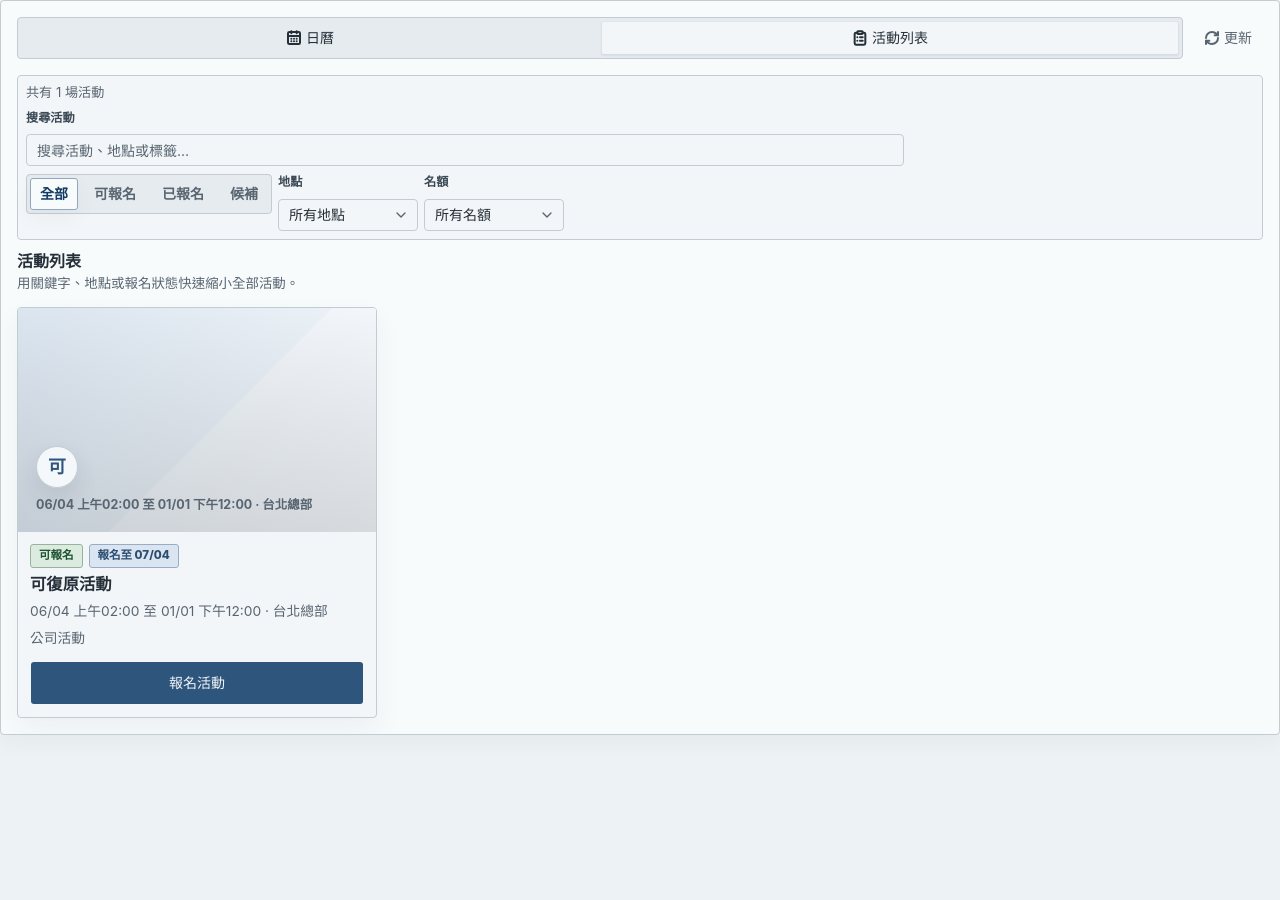
Test: EmployeeEventsPage discovery controls › shows a recoverable no-result state for discovery filters
Expected: the heading "可復原活動" is shown, [30,574,112,594]
Type "不存在" into the search field labelled "搜尋活動" at (465, 150), box [26,134,904,166]
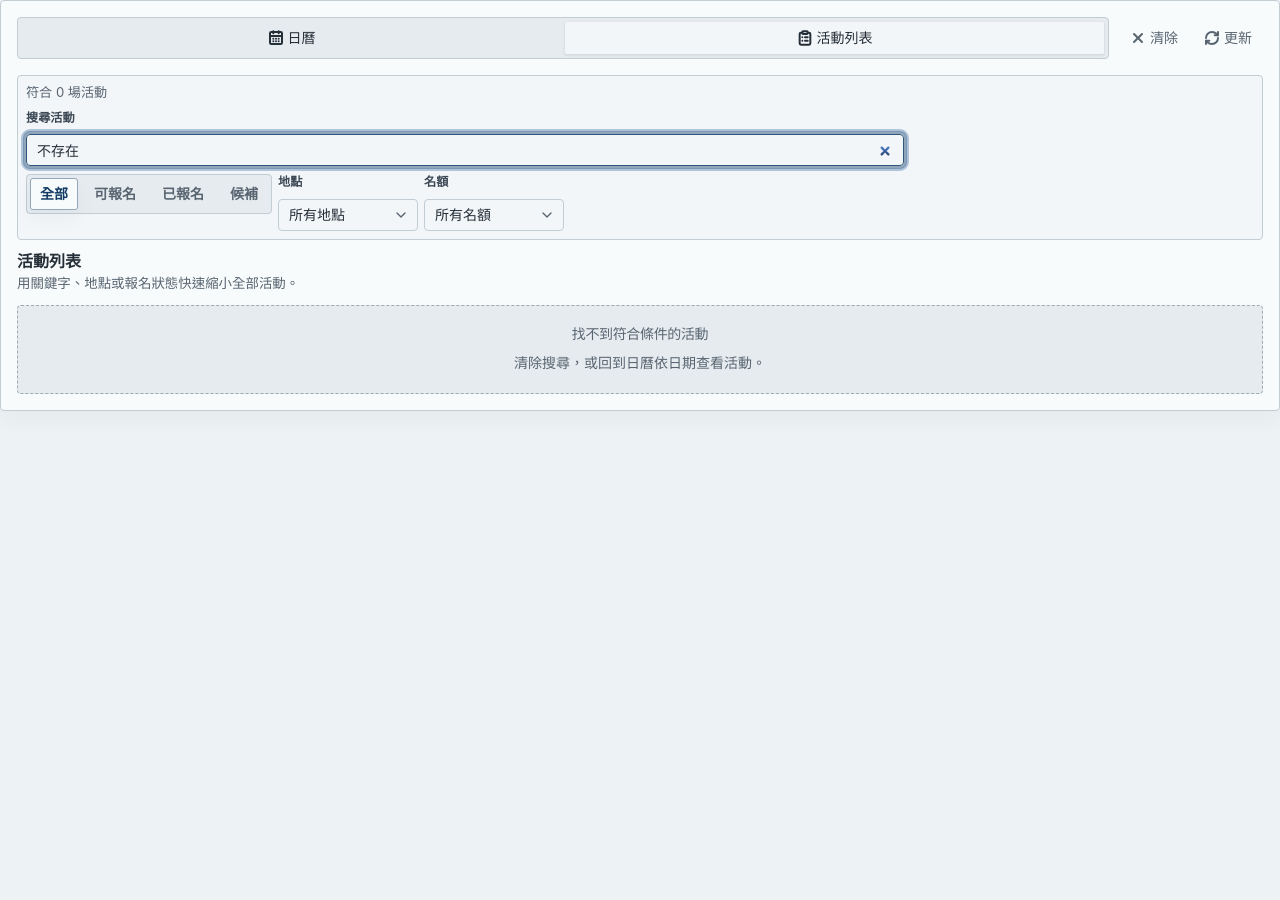
Expected: the text "找不到符合條件的活動" is shown, [572,324,708,344]
Expected: the text "符合 0 場活動" is shown, [26,84,107,102]
Click the button "清除" at (1154, 38), box [1119,21,1189,55]
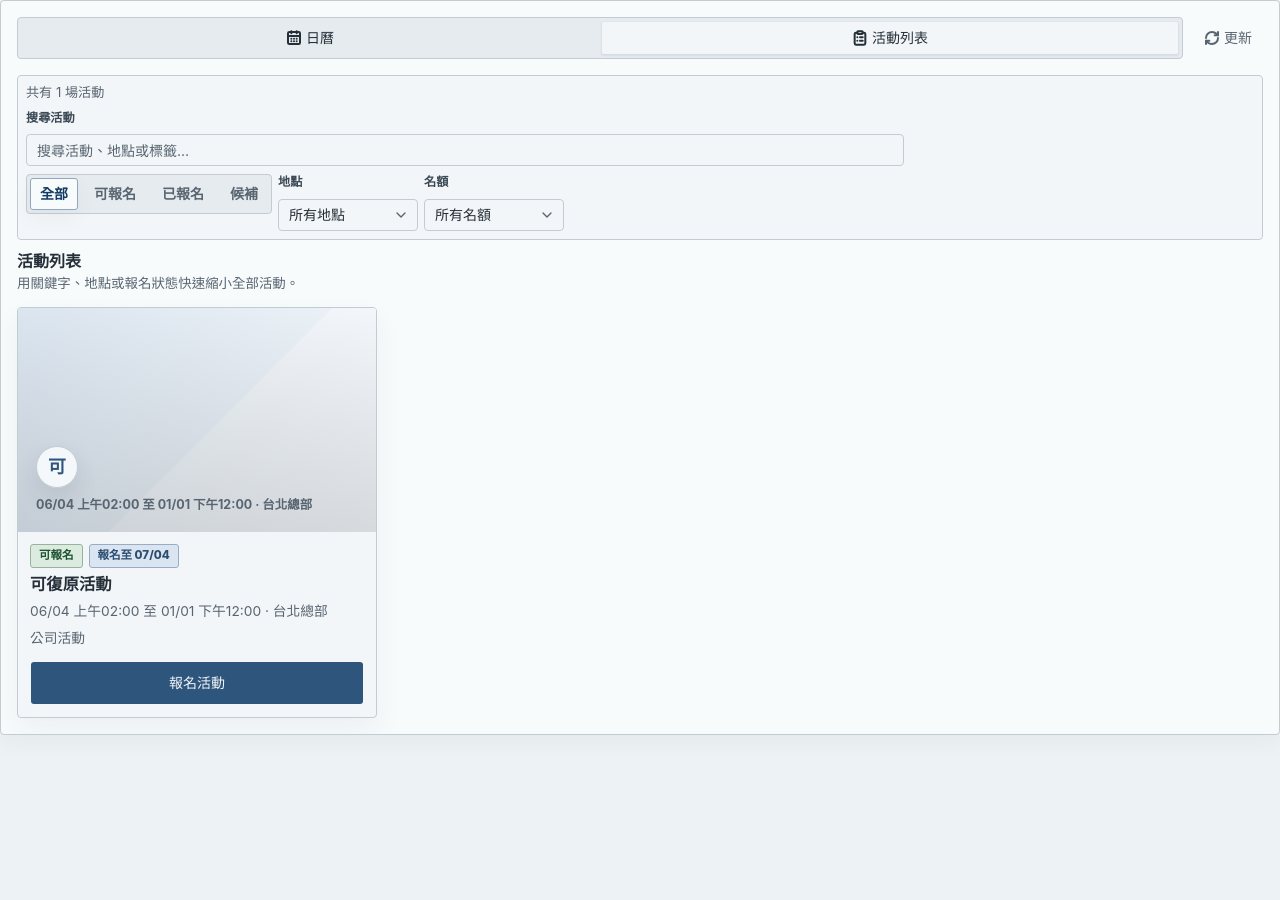
Expected: the search field labelled "搜尋活動" is empty, [26,134,904,166]
Expected: the heading "可復原活動" is shown, [30,574,112,594]
